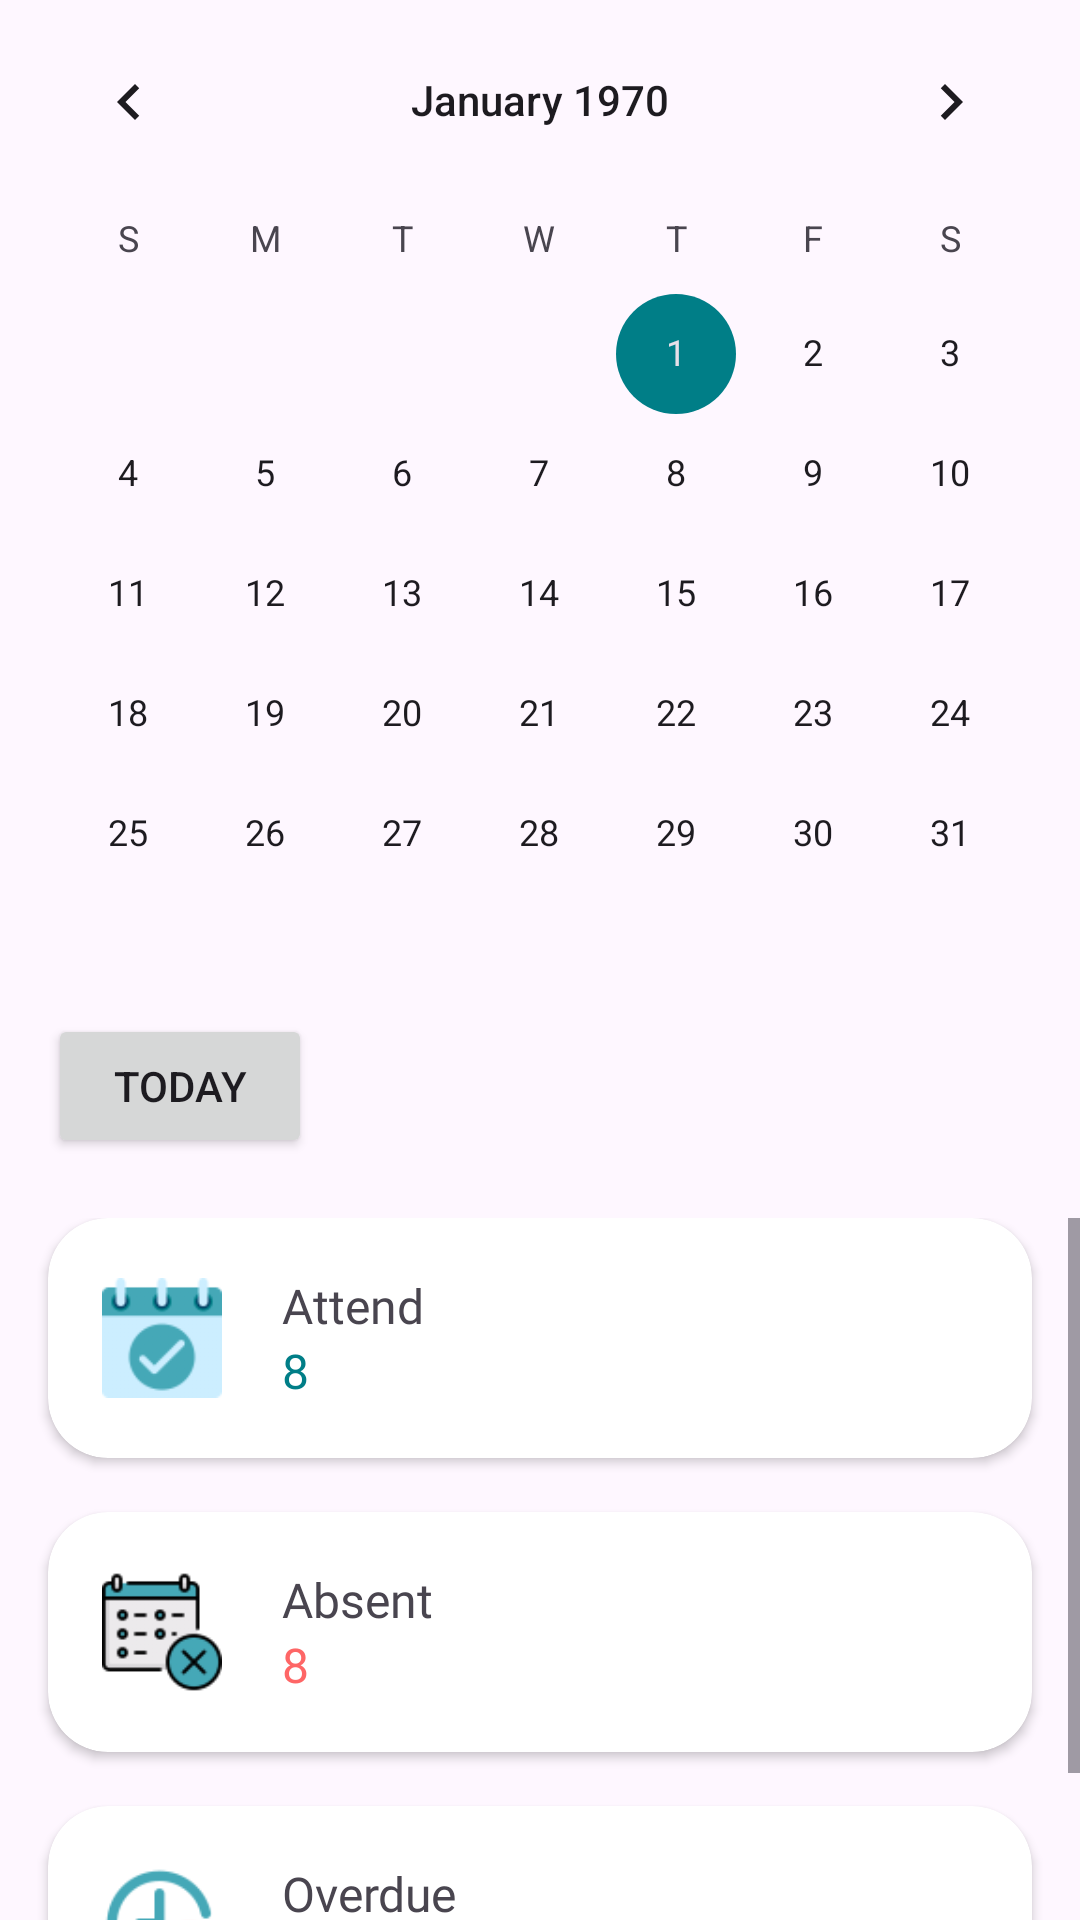

Icon bounding boxes for this 1080px x 1920px phone screenshot, format (x1, y1, x2, y2):
ghaib: (102, 1573, 222, 1691)
hadir: (102, 1278, 222, 1398)
